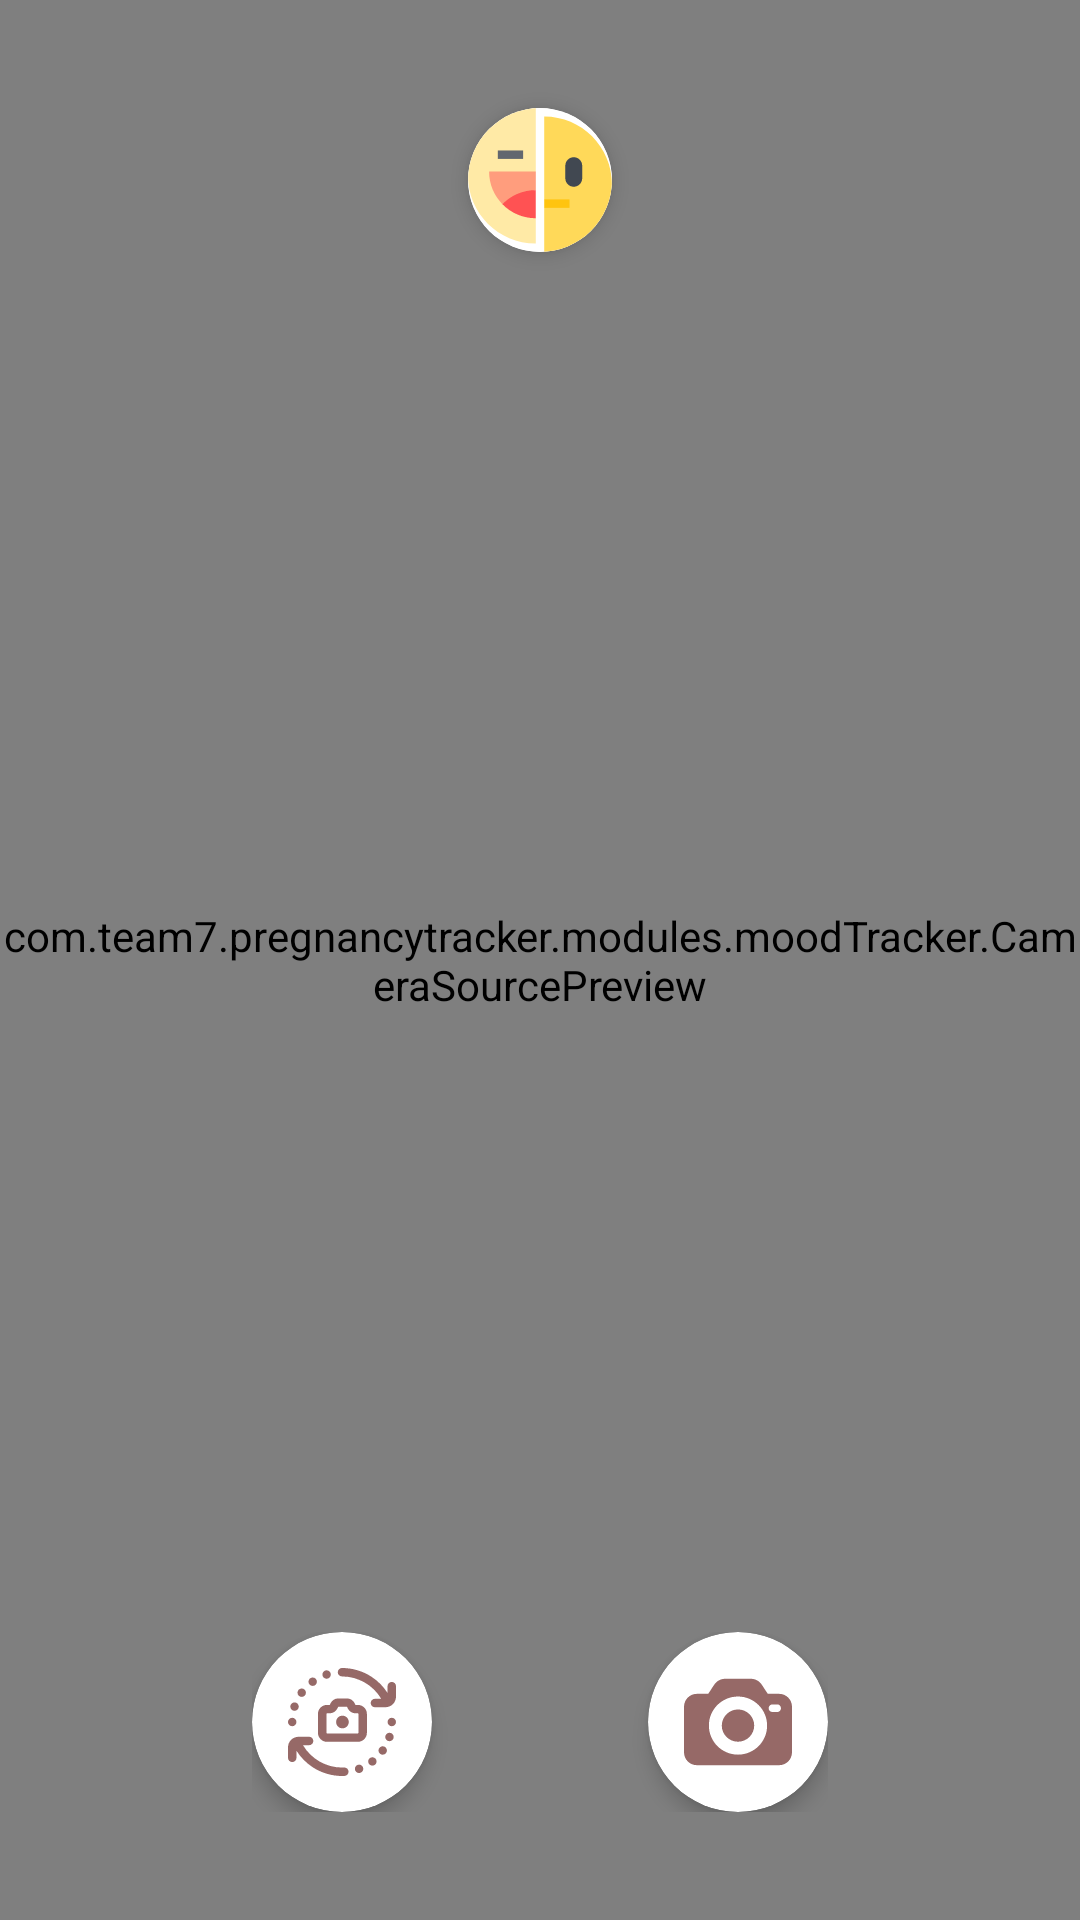

Locate icon controls on the screen. Image size 1080*1920, boxes as {"x1": x1, "y1": y1, "x2": x2, "y2": y2}.
toggle camera: {"x1": 288, "y1": 1668, "x2": 396, "y2": 1776}
